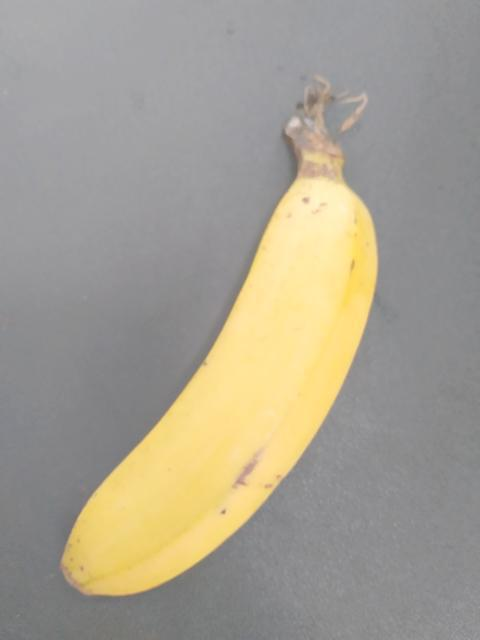freshripe: (35, 168, 370, 608)
